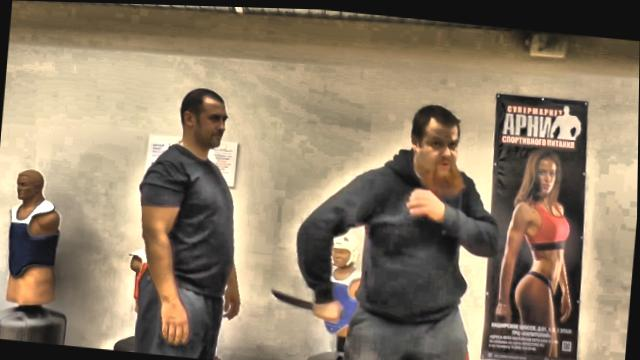knife: (267, 283, 346, 321)
